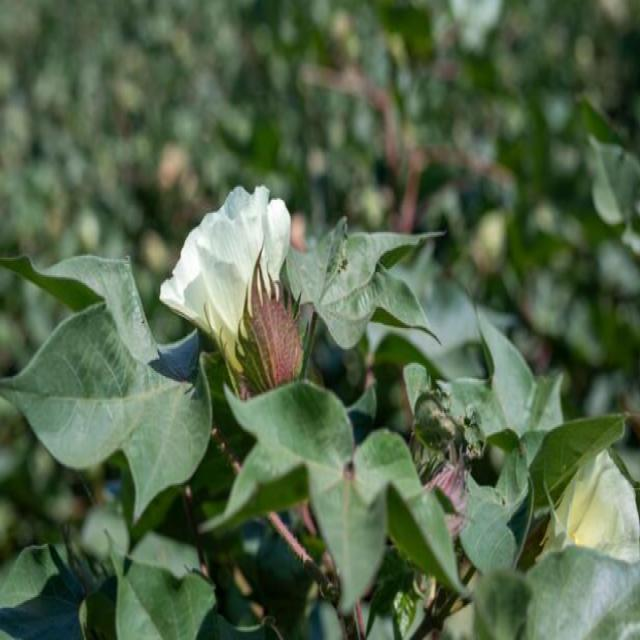Cotton Blossom: (156, 174, 306, 395), (539, 446, 640, 565)
